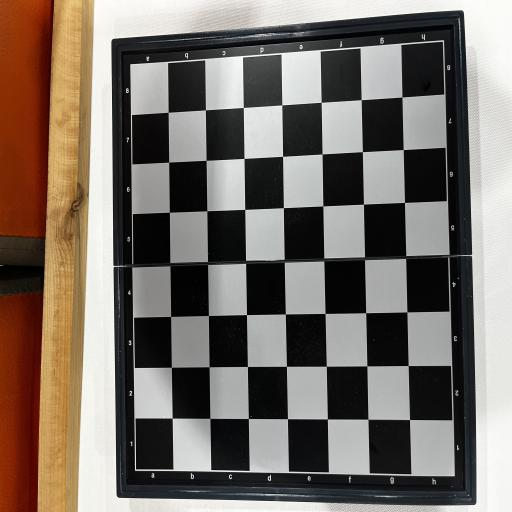Board: (111, 10, 476, 505)
